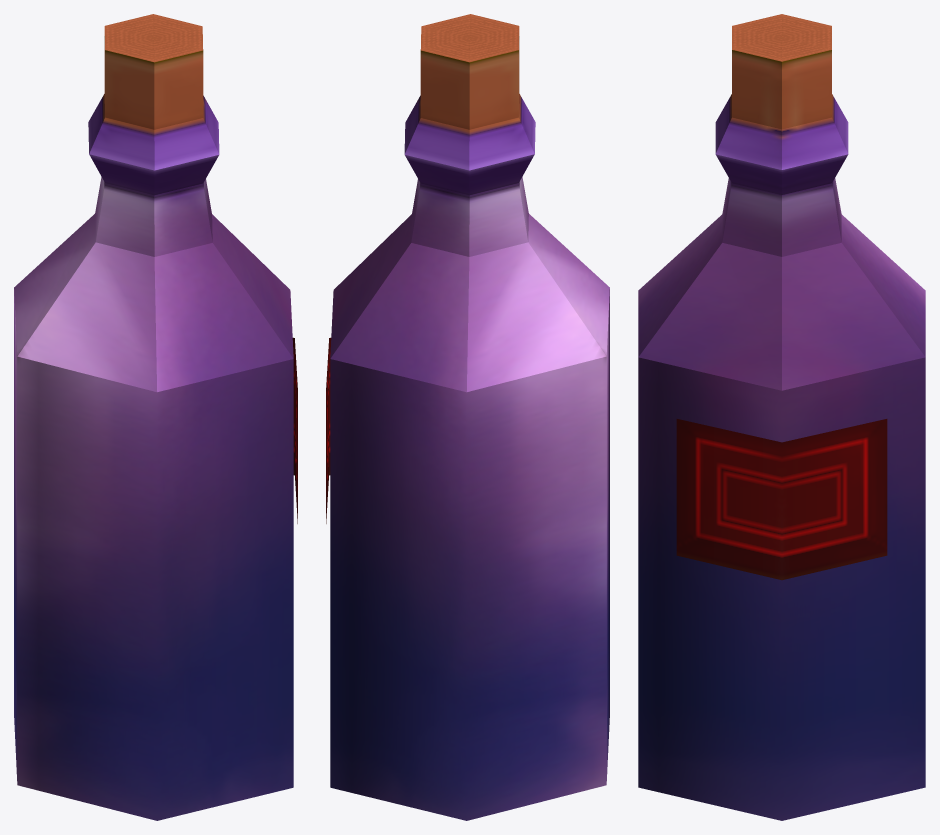
File: JiuPing09.FBX
3 renders of one model, left to right at view 1: azimuth 30°, elevation 25°; view 2: azimuth 150°, elevation 25°; view 3: azimuth 270°, elevation 25°, orthographic.
Parts seen in each view (by area): view 1: JiuPing09; view 2: JiuPing09; view 3: JiuPing09.
Boxes of the visible parts, x1,y1,x2,y2 form: JiuPing09: [14, 14, 297, 820]; JiuPing09: [326, 14, 609, 820]; JiuPing09: [638, 14, 925, 820].
Size of the model in its own units: 10.9 by 26.79 by 9.73.
